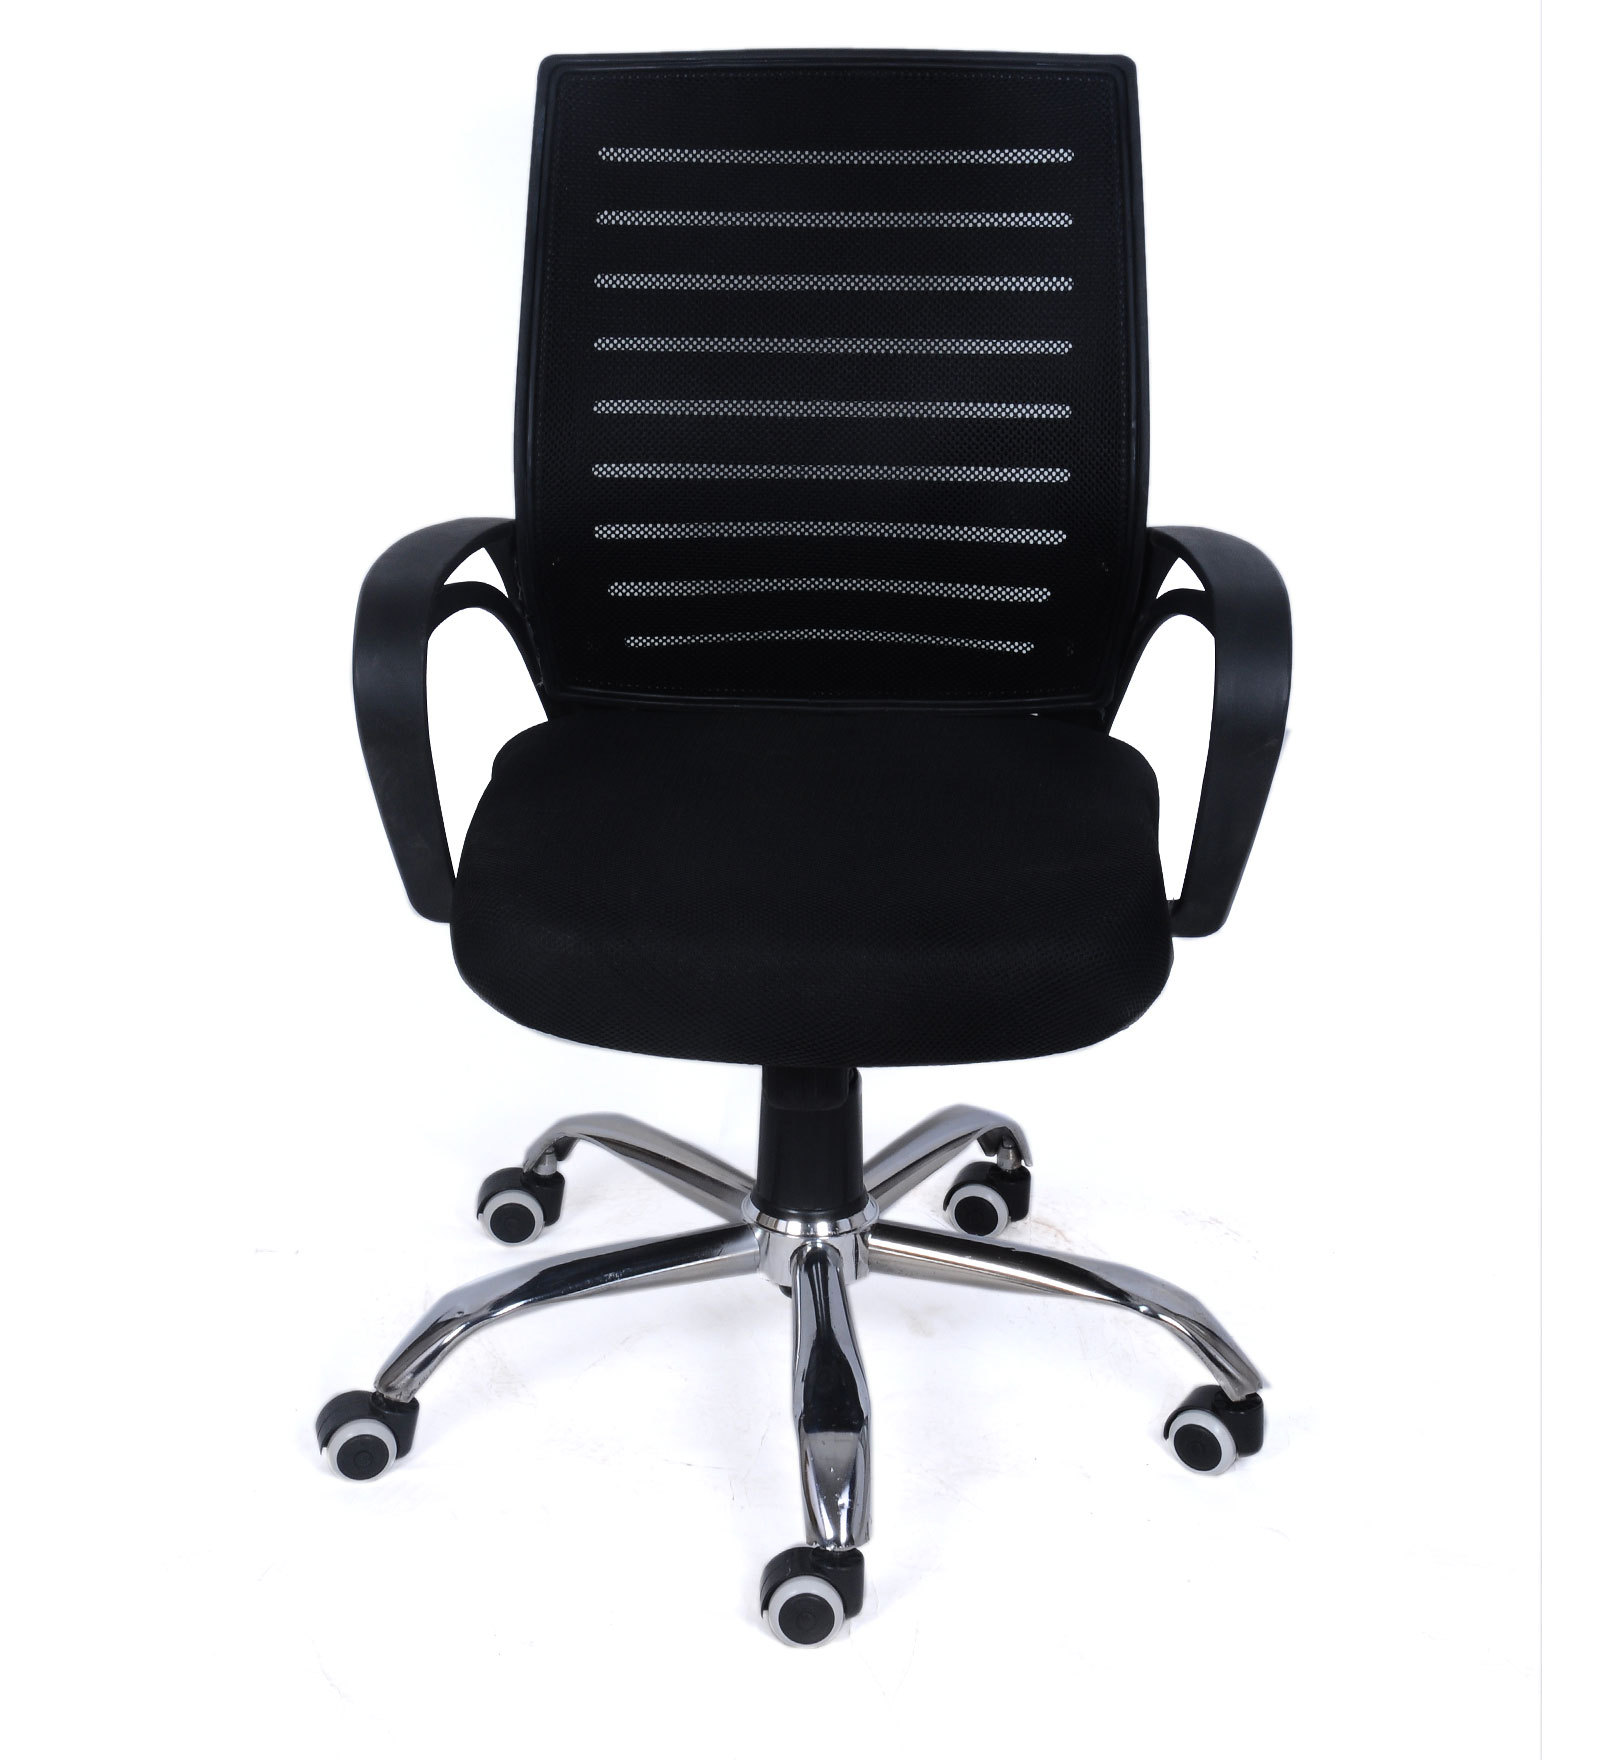Classical Medium Back Ergonomic Chair by Furniease: (273, 23, 1327, 1660)
